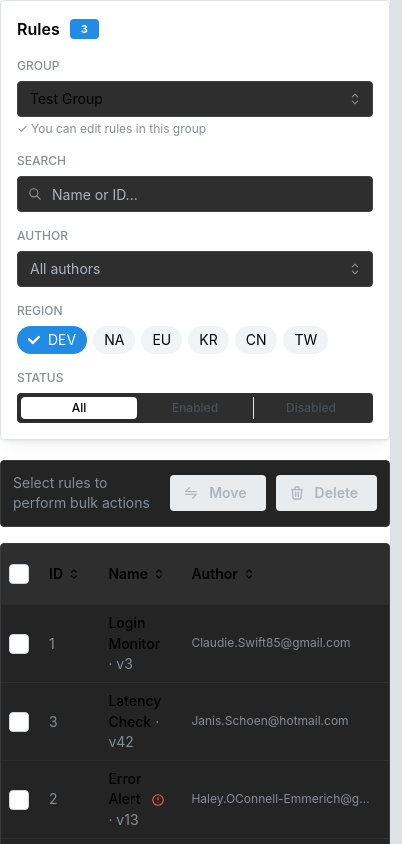
Test: RulesListPage › Rule Selection › can select all rules via header checkbox
Step 1. Click the checkbox next to "ID" → (19, 574), box [9,564,29,584]
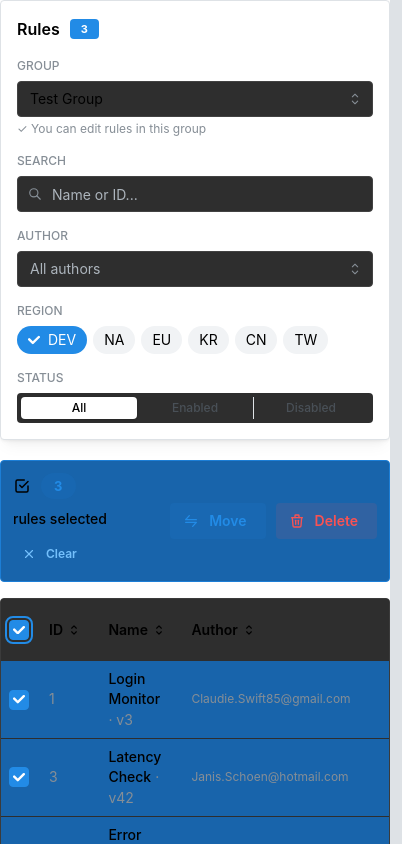
Result: the text "rules selected" is shown at [13,509,107,530]
